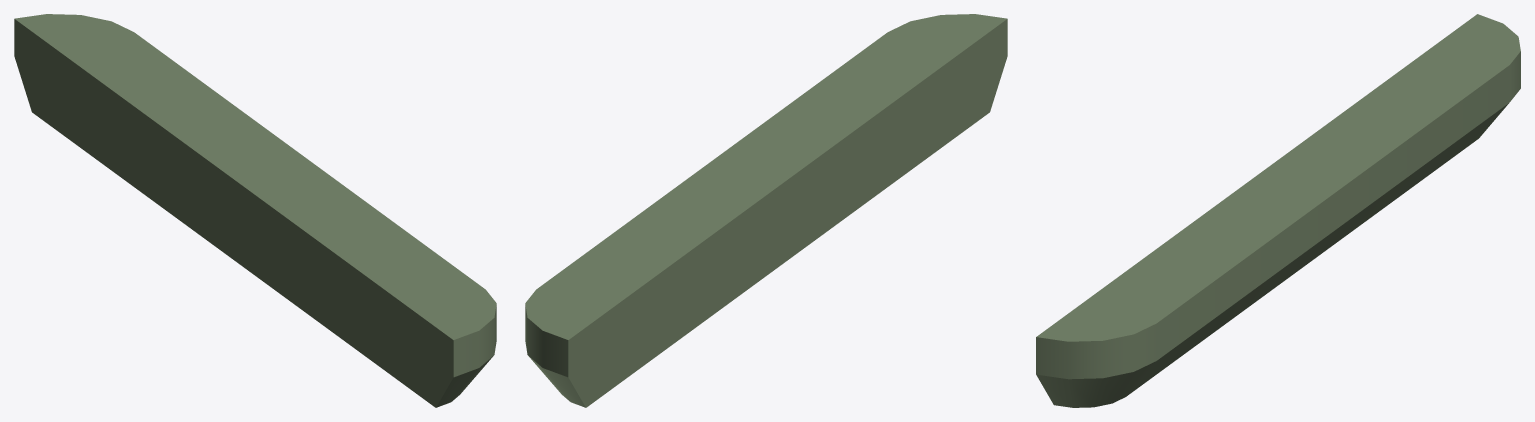
File: Sm_roofTopBase_01.fbx
The picture shows the model from 3 angles, left to right: view 1: azimuth 30°, elevation 25°; view 2: azimuth 150°, elevation 25°; view 3: azimuth 330°, elevation 25°; orthographic projection.
Parts seen in each view (by area): view 1: Sm_roofTopBase_01; view 2: Sm_roofTopBase_01; view 3: Sm_roofTopBase_01.
Part boxes in pixels (x1,y1,x2,y2): Sm_roofTopBase_01: (14, 14, 496, 407); Sm_roofTopBase_01: (525, 14, 1007, 407); Sm_roofTopBase_01: (1036, 14, 1520, 407).
Size of the model in its own units: 0.5 by 0.507 by 5.
